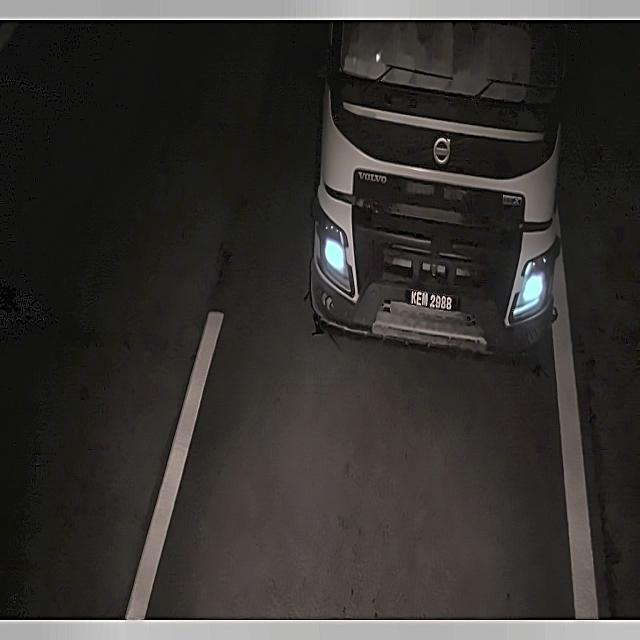car: (402, 285, 460, 318)
